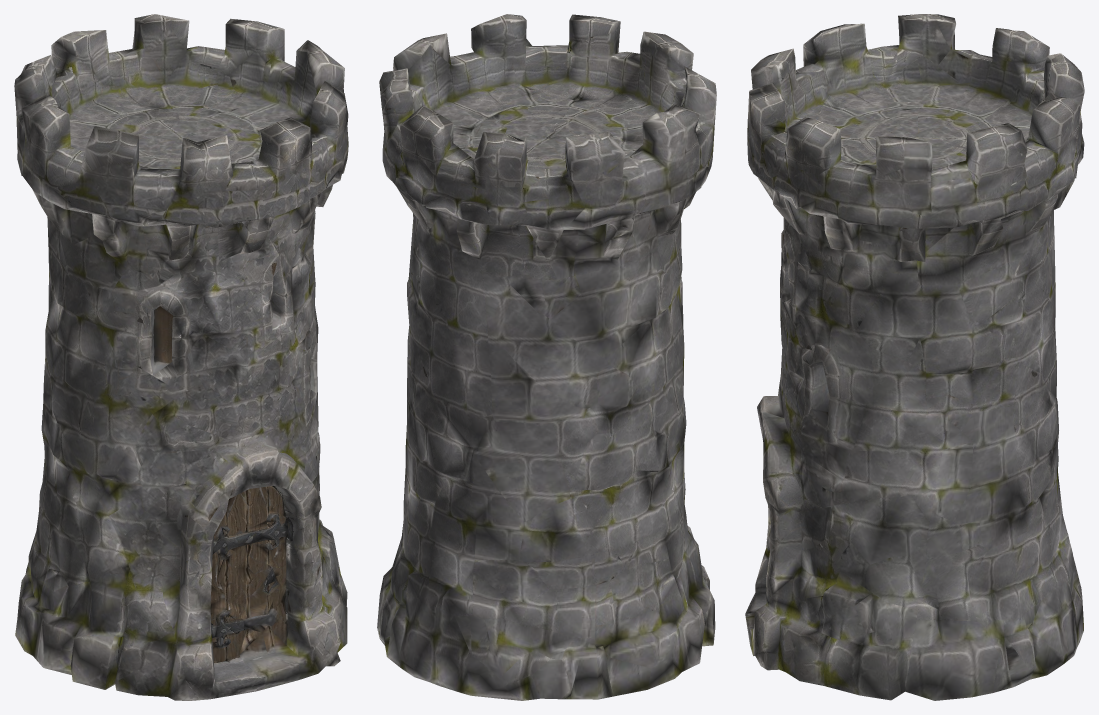
The model's file is fort_m_meadow_tower.glb.
3 renders of one model, left to right at view 1: azimuth 30°, elevation 25°; view 2: azimuth 150°, elevation 25°; view 3: azimuth 270°, elevation 25°, orthographic.
Visible parts, largest first — view 1: fort_m_meadow_tower; view 2: fort_m_meadow_tower; view 3: fort_m_meadow_tower.
Part boxes in pixels (left/top/right/bottom): fort_m_meadow_tower: left=14, top=14, right=348, bottom=700; fort_m_meadow_tower: left=377, top=14, right=716, bottom=700; fort_m_meadow_tower: left=745, top=14, right=1084, bottom=700.
Size of the model in its own units: 1.06 by 1.9 by 1.06.
1 material, 1 textured.
